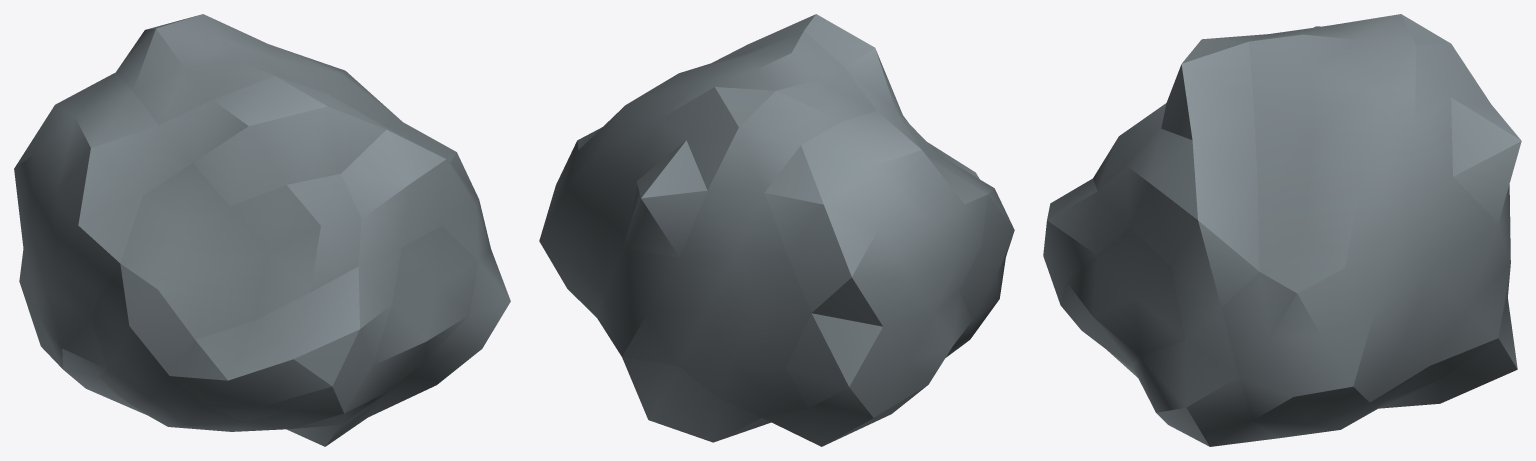
File: Rock_3_Q_Color1.glb
3 views of the same model, side by side, from view 1: azimuth 30°, elevation 25°; view 2: azimuth 150°, elevation 25°; view 3: azimuth 270°, elevation 25° (orthographic). The views are drawn at different scales.
Visible parts, largest first — view 1: Rock_3_Q_Color1; view 2: Rock_3_Q_Color1; view 3: Rock_3_Q_Color1.
Boxes of the visible parts, x1=… form: Rock_3_Q_Color1: x1=14, y1=14, x2=510, y2=446; Rock_3_Q_Color1: x1=539, y1=14, x2=1014, y2=446; Rock_3_Q_Color1: x1=1043, y1=14, x2=1521, y2=446.
Bounding box in the file's own units: 4.65 × 3.72 × 4.48.
Materials: 1 (1 with a texture image).
